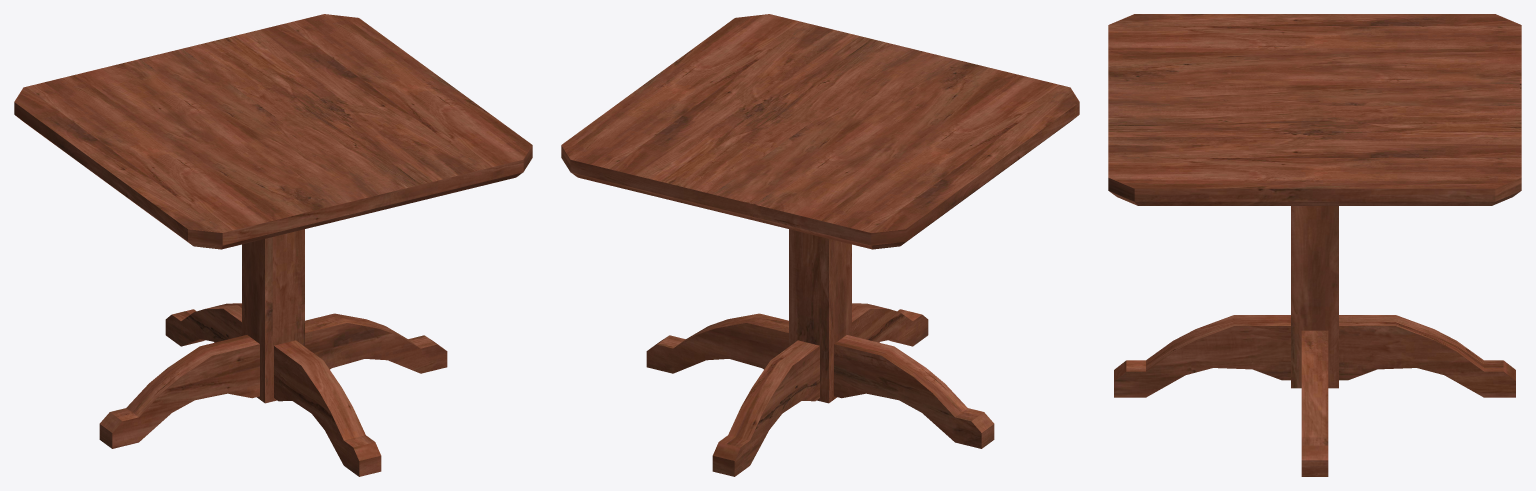
The model's file is tableMesh00.fbx.
3 renders of one model, left to right at view 1: azimuth 30°, elevation 25°; view 2: azimuth 150°, elevation 25°; view 3: azimuth 270°, elevation 25°, orthographic. The views are drawn at different scales.
Parts seen in each view (by area): view 1: polySurface2; view 2: polySurface2; view 3: polySurface2.
Part boxes in pixels (box(x1,y1,x2,y2)): polySurface2: box(14, 14, 532, 476); polySurface2: box(561, 14, 1079, 476); polySurface2: box(1108, 14, 1521, 476).
Bounding box in the file's own units: 31.32 × 24.3 × 31.32.
Materials: 1 (1 with a texture image).
